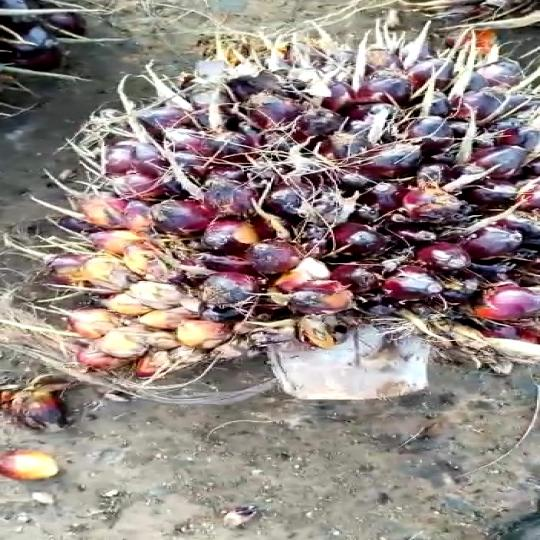kurang masak: (73, 32, 540, 393)
